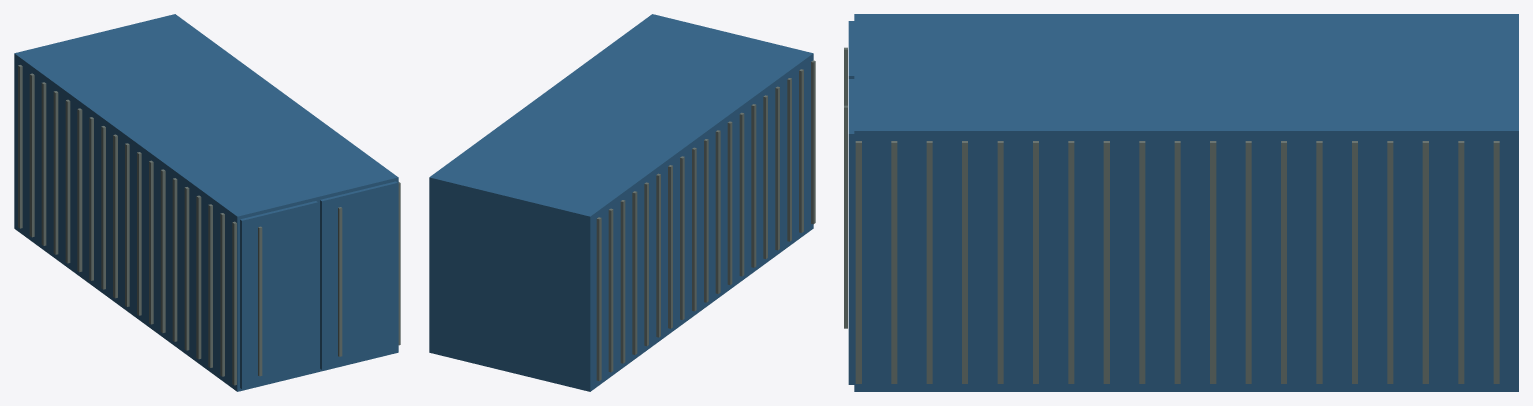
Rendered from CargoContainer.obj.
3 views of the same model, side by side, from view 1: azimuth 30°, elevation 25°; view 2: azimuth 150°, elevation 25°; view 3: azimuth 270°, elevation 25° (orthographic). The views are drawn at different scales.
Parts seen in each view (by area): view 1: CargoContainer; view 2: CargoContainer; view 3: CargoContainer.
Boxes of the visible parts, box(x1,y1,x2,y2) form: CargoContainer: box(14, 14, 400, 391); CargoContainer: box(429, 14, 815, 391); CargoContainer: box(844, 14, 1518, 391).
Bounding box in the file's own units: 2.59 × 2.6 × 6.09.
